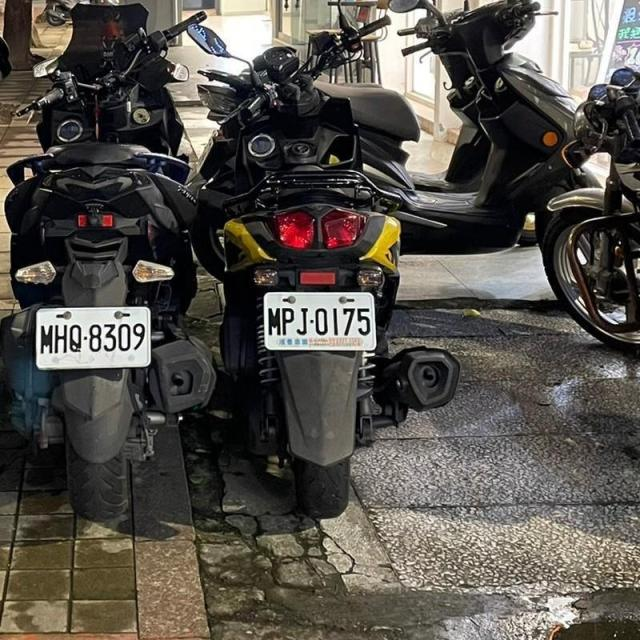W: (28, 302, 160, 372), (256, 288, 384, 356)
